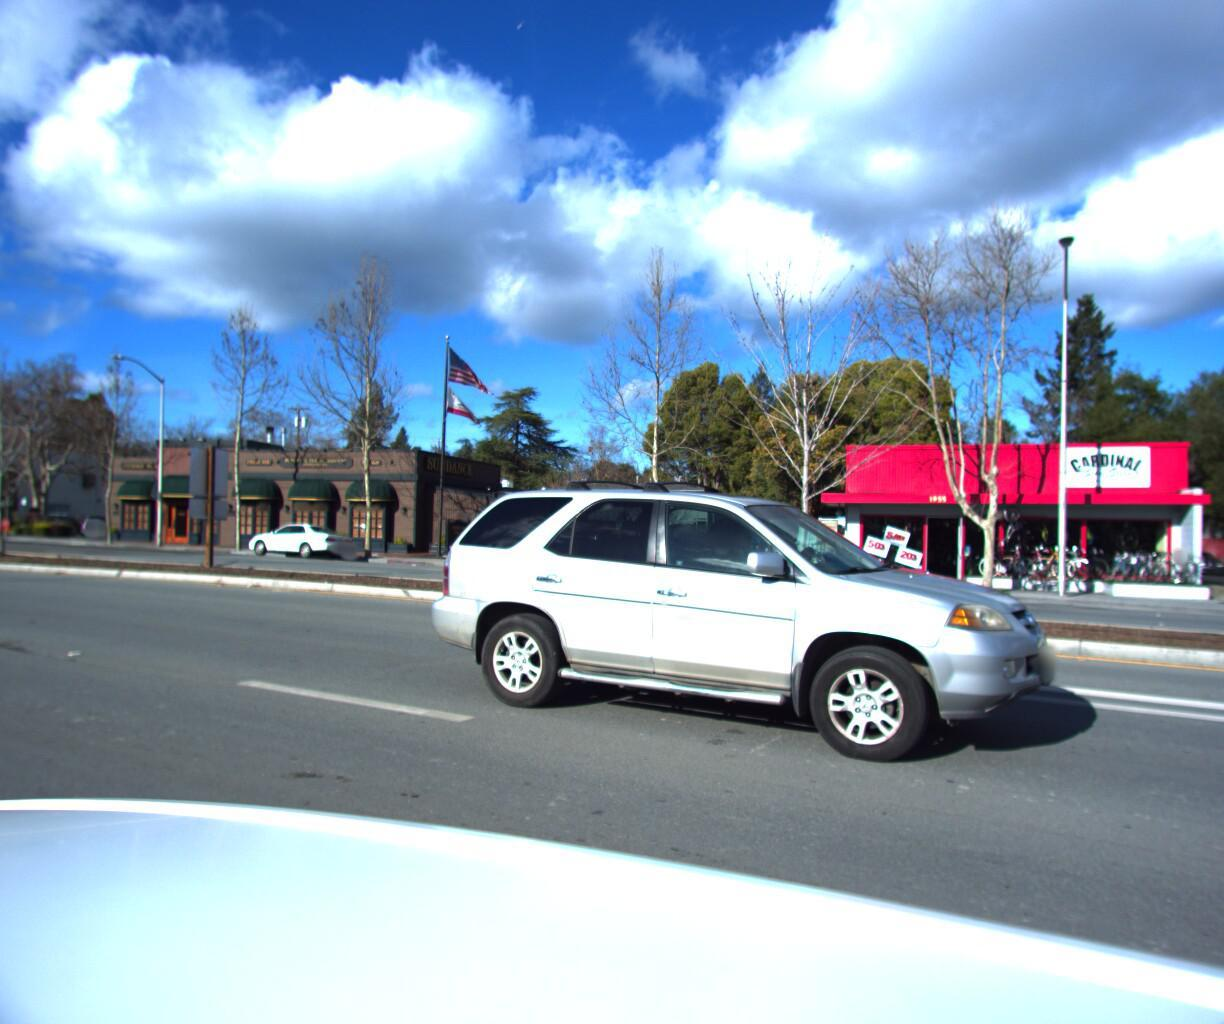bicycle: (1133, 548, 1192, 588), (1154, 549, 1214, 588), (1109, 548, 1166, 587), (1088, 548, 1144, 586)
car: (418, 441, 1062, 779), (241, 523, 361, 567), (86, 518, 119, 541)
